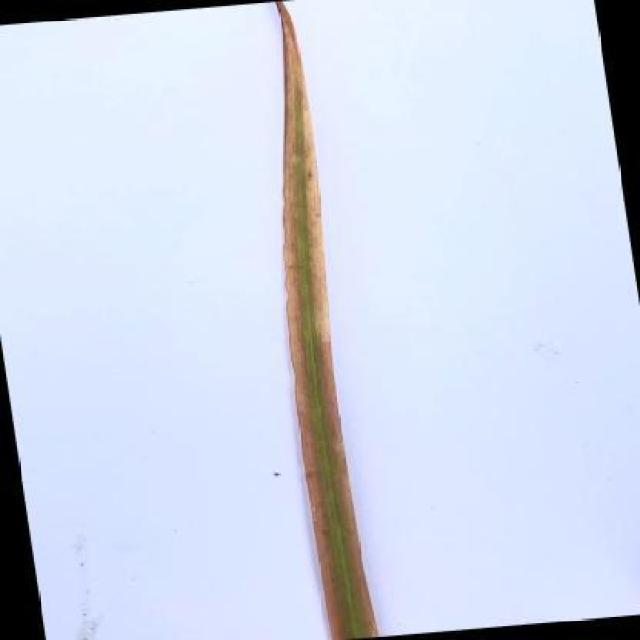Rice False Smut: (277, 2, 369, 640)
